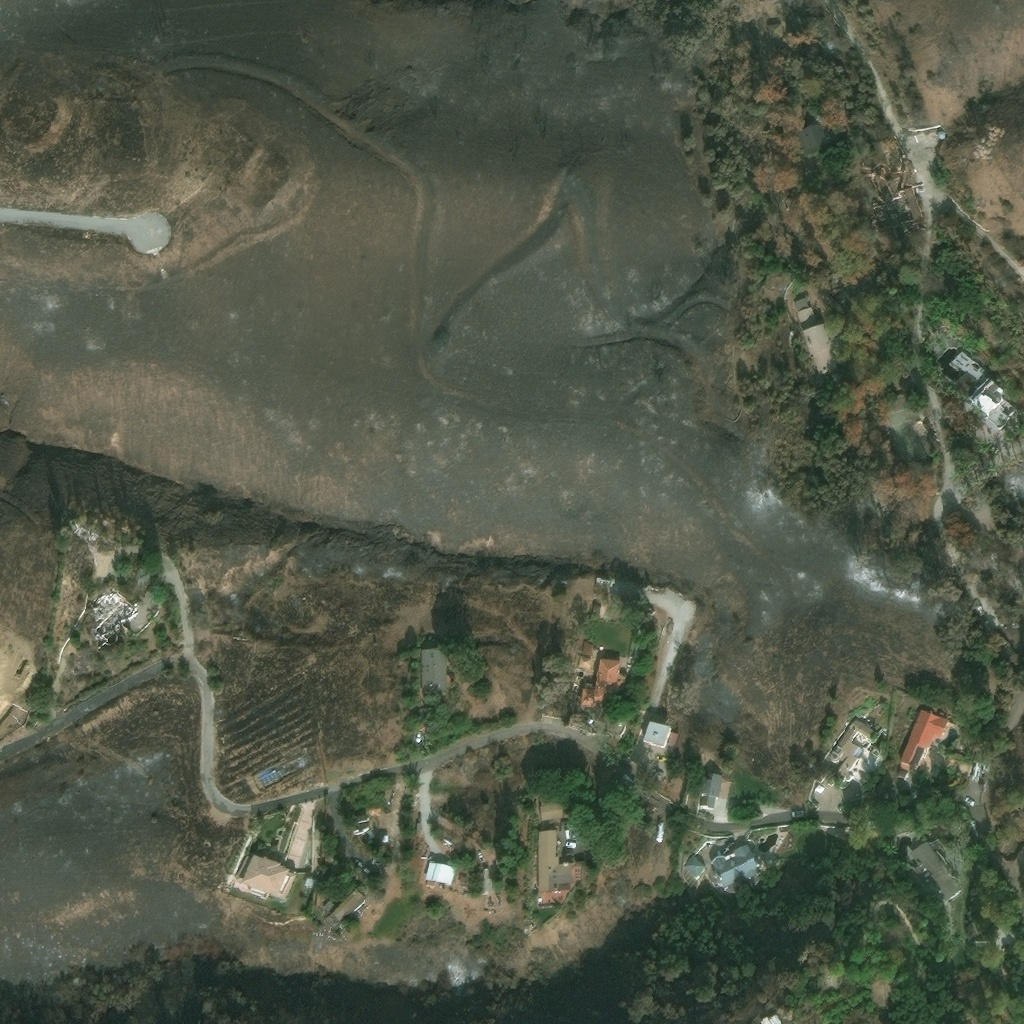0 no-damage: (794, 294, 846, 378), (947, 344, 1004, 403), (911, 839, 962, 899), (830, 715, 875, 778), (899, 705, 946, 765), (235, 852, 295, 897), (535, 830, 576, 892), (710, 841, 761, 885), (579, 656, 622, 705), (330, 888, 363, 925), (642, 719, 679, 751), (421, 648, 446, 694), (795, 119, 827, 152), (699, 771, 721, 805), (425, 858, 453, 884), (539, 799, 564, 820), (684, 853, 703, 874), (915, 413, 933, 433), (767, 19, 784, 34), (758, 1012, 781, 1023), (538, 895, 551, 908), (578, 640, 591, 653), (578, 653, 590, 667)
3 destroyed: (90, 587, 135, 638), (880, 184, 925, 224)
